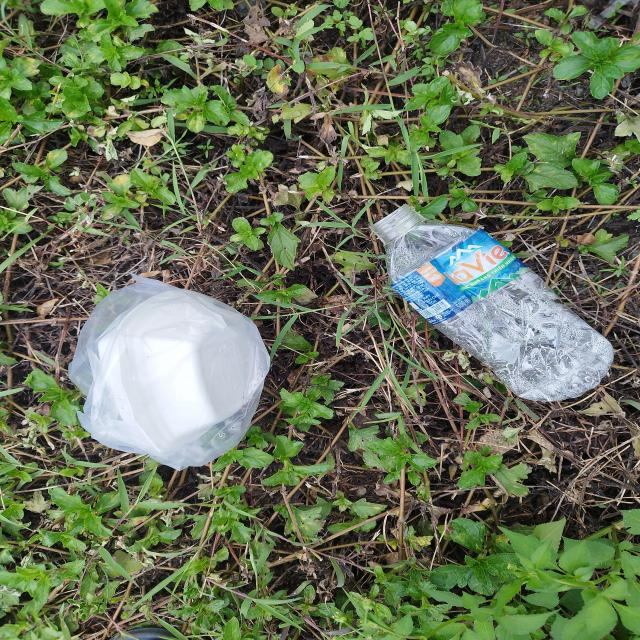bottle: (372, 205, 612, 402)
trash bag: (68, 274, 270, 470)
